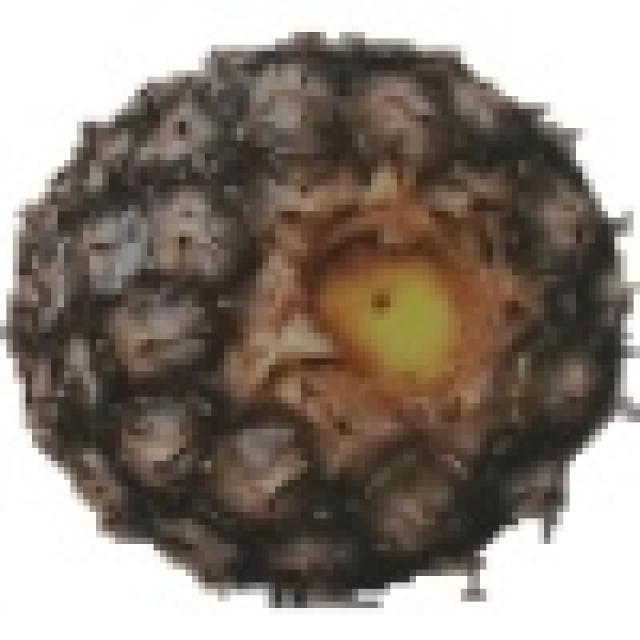pineapple: (6, 26, 608, 589)
